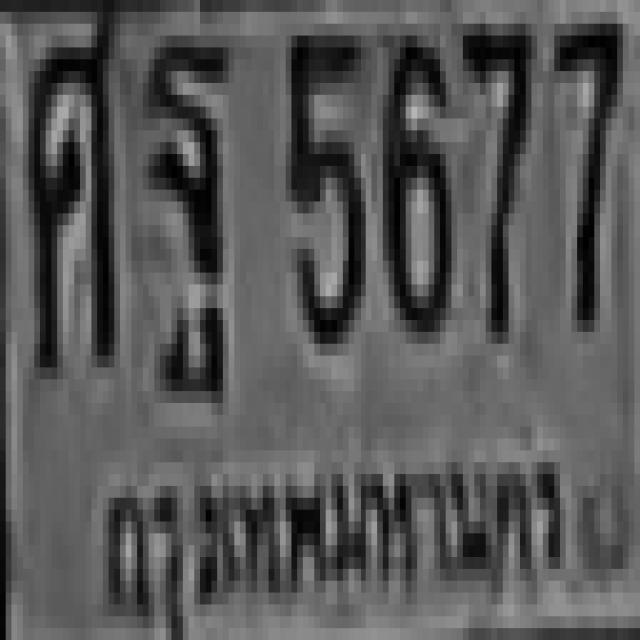25ThorThan: (140, 29, 226, 350)
47SorSala: (23, 0, 114, 356)
5: (286, 24, 360, 332)
6: (380, 24, 449, 332)
7: (460, 6, 529, 326), (549, 12, 617, 320)
Bangkok: (99, 439, 567, 640)
